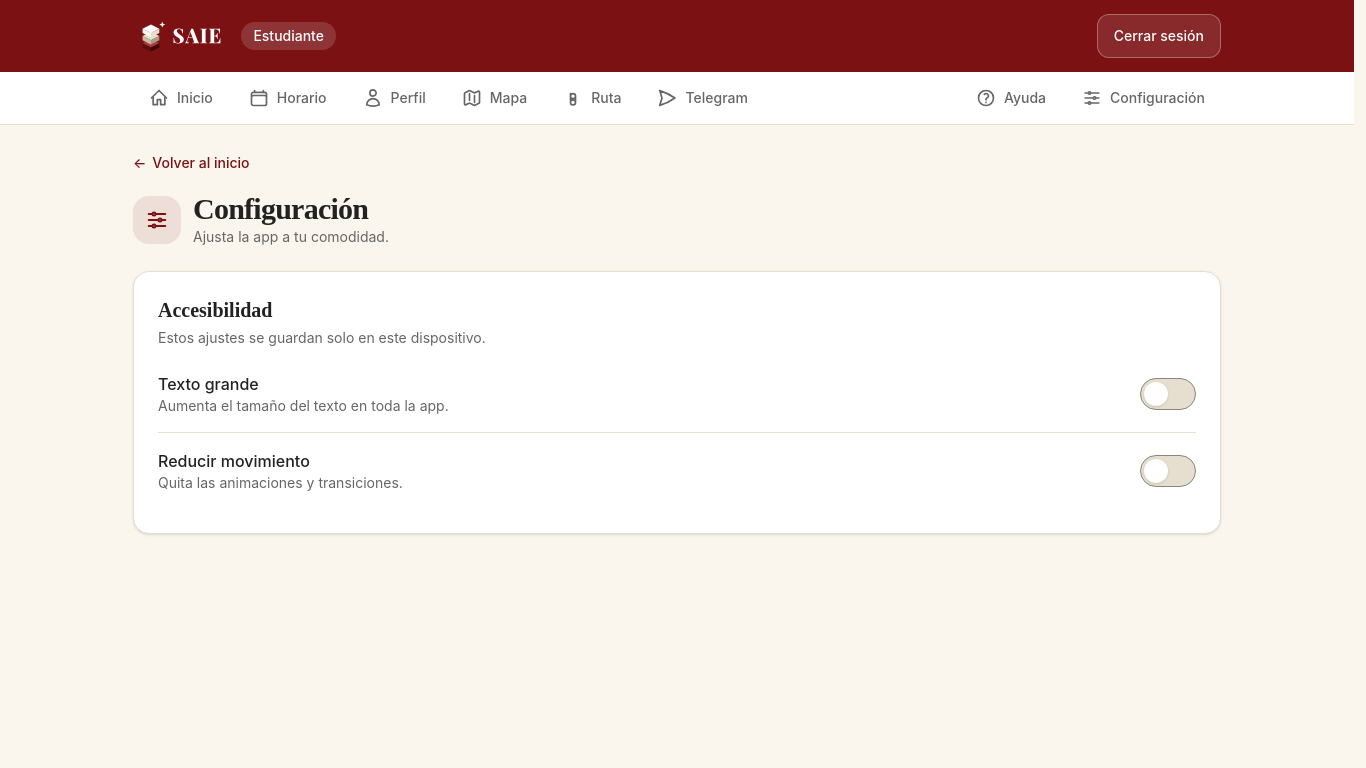
Test case: ConfiguracionAlumno (Issue 3.17) › confirma el cambio y no repite cerrar sesión ni enlaces que ya están en el inicio
Check: the text "Cambio guardado en este dispositivo." is not shown
Click the switch named "Texto grande" in the row of "Texto grande": click(1168, 394) top-left (1140, 378), bottom-right (1196, 410)
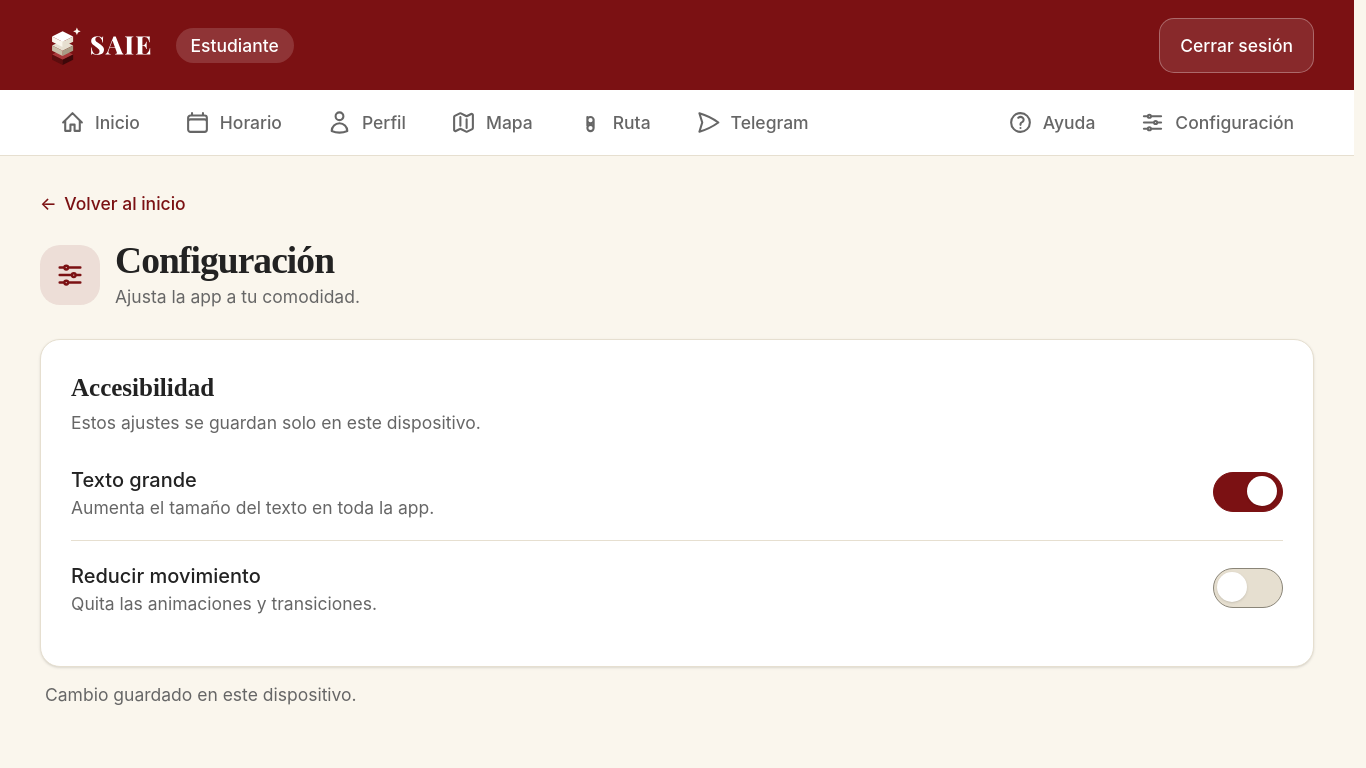
Check: the number of buttons "Cerrar sesión" is 1, box top-left (1159, 18), bottom-right (1314, 72)
Check: the message reads "Cambio guardado en este dispositivo.", box top-left (45, 684), bottom-right (357, 704)
